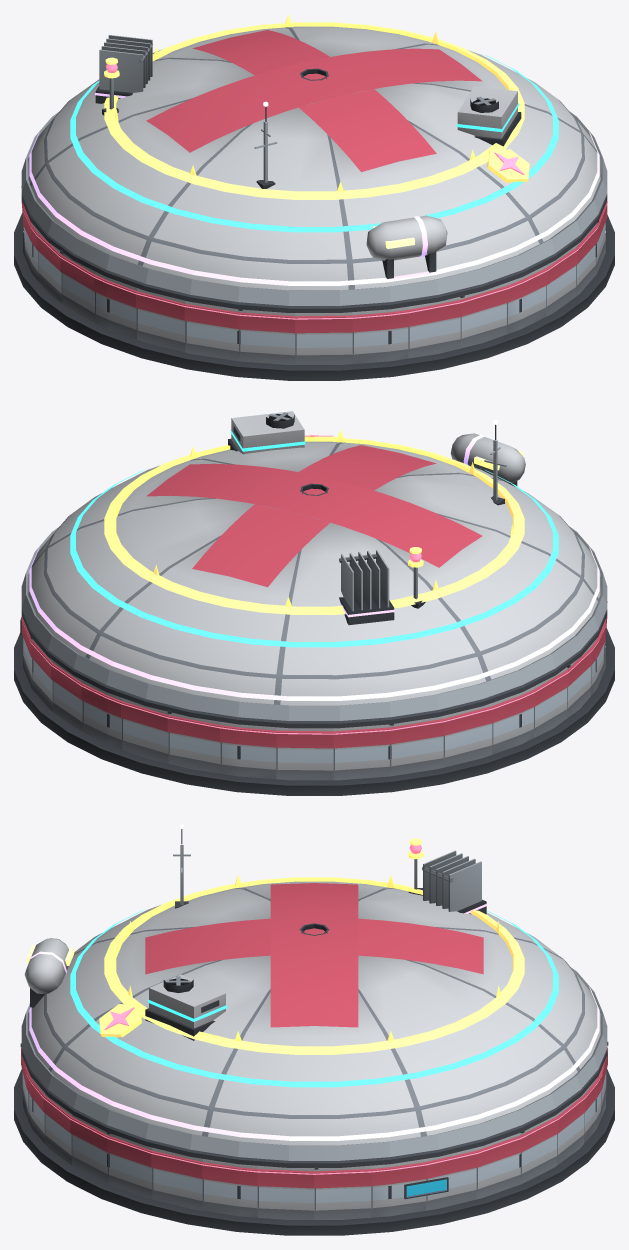
The model's file is medical_m.glb.
The picture shows the model from 3 angles, top to bottom: view 1: azimuth 30°, elevation 25°; view 2: azimuth 150°, elevation 25°; view 3: azimuth 270°, elevation 25°; orthographic projection.
Visible parts, largest first — view 1: Roof, Base, L5, L3, L4, Wall_21, Wall_20, Wall_22, Wall_19, Wall_23, Wall_18, Wall_24 (+20 smaller); view 2: Roof, Base, L5, L3, L4, Wall_10, Wall_11, Wall_09, Wall_12, Wall_08, Wall_13, Wall_07 (+18 smaller); view 3: Roof, Base, L5, L3, L4, Wall_00, Wall_31, Wall_30, Wall_29, Wall_01, Wall_02, Wall_28 (+18 smaller).
Boxes of the visible parts, x1,y1,x2,y2 form: Roof: [21, 26, 607, 312]; Base: [14, 212, 614, 380]; L5: [102, 14, 529, 199]; L3: [70, 55, 558, 232]; L4: [95, 34, 447, 278]; Wall_21: [295, 312, 352, 364]; Wall_20: [238, 308, 295, 364]; Wall_22: [352, 306, 408, 363]; Wall_19: [184, 301, 238, 361]; Wall_23: [408, 297, 461, 358]; Wall_18: [135, 288, 185, 352]; Wall_24: [460, 283, 507, 348]; Roof: [21, 441, 607, 728]; Base: [14, 628, 614, 795]; L5: [104, 429, 524, 614]; L3: [70, 411, 558, 647]; L4: [339, 433, 525, 625]; Wall_10: [276, 727, 333, 780]; Wall_11: [333, 724, 390, 780]; Wall_09: [220, 722, 276, 779]; Wall_12: [390, 716, 444, 776]; Wall_08: [167, 710, 220, 773]; Wall_13: [443, 703, 493, 767]; Wall_07: [121, 698, 168, 763]; Roof: [21, 881, 607, 1167]; Base: [14, 1069, 614, 1235]; L5: [99, 838, 524, 1054]; L3: [70, 909, 558, 1087]; L4: [24, 850, 487, 1007]; Wall_00: [314, 1165, 371, 1220]; Wall_31: [257, 1165, 314, 1219]; Wall_30: [202, 1159, 257, 1217]; Wall_29: [151, 1147, 202, 1210]; Wall_01: [371, 1159, 426, 1217]; Wall_02: [426, 1147, 477, 1210]; Wall_28: [107, 1132, 152, 1199].
Size of the model in its own units: 13.25 by 5.54 by 13.25.
